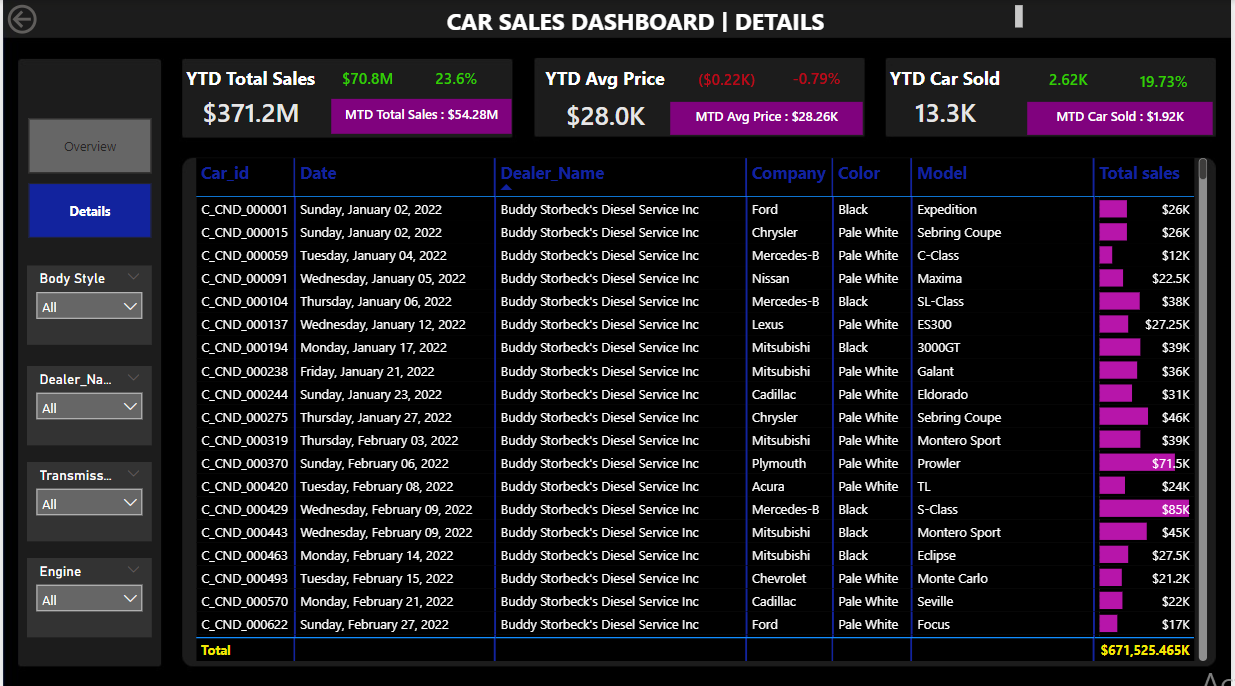

This screenshot's page, from the dashboard's own definition file:
{"tool":"powerbi","page":{"name":"Details","canvas":[1280,720],"ordinal":1},"visuals":[{"type":"card","title":"YTD Total Sales","fields":{"Values":["car_data.YTD Total Sales"]},"box":[172,68,172,71.8],"z":0},{"type":"card","fields":{"Values":["car_data.Sales diff"]},"box":[334.5,60.5,90.7,43.5],"z":1000},{"type":"card","fields":{"Values":["car_data.YoY Sales Growth"]},"box":[427.1,60.5,90.7,43.5],"z":2000},{"type":"card","fields":{"Values":["car_data.MTD KPI"]},"box":[342.3,103.2,187.6,35.9],"z":3000},{"type":"card","title":"YTD Avg Price","fields":{"Values":["car_data.YTD Avg Price"]},"box":[551.8,68,151.2,79.4],"z":4000},{"type":"card","fields":{"Values":["car_data.Avg Price Diff"]},"box":[708.7,62.4,90.7,43.5],"z":5000},{"type":"card","fields":{"Values":["car_data.YoY Avg Price Growth"]},"box":[801.3,60.5,90.7,43.5],"z":6000},{"type":"card","fields":{"Values":["car_data.MTD Avg Price KPI"]},"box":[695.4,105.8,200.3,34],"z":7000},{"type":"card","title":"YTD Car Sold","fields":{"Values":["car_data.YTD Car Sold"]},"box":[895.8,68,172,71.8],"z":8000},{"type":"card","fields":{"Values":["car_data.Car Sold Diff"]},"box":[1063.9,62.4,90.7,43.5],"z":9000},{"type":"card","fields":{"Values":["car_data.YoY Car Sold Growth"]},"box":[1158.4,64.3,102,43.5],"z":10000},{"type":"card","fields":{"Values":["car_data.MTD Car sold KPI"]},"box":[1067.7,105.8,192.8,34],"z":11000},{"type":"textbox","box":[257.9,0,809.6,37.5],"z":12000},{"type":"slicer","fields":{"Values":["car_data.Body Style"]},"box":[25,276.6,129.7,82.8],"z":13000},{"type":"slicer","fields":{"Values":["car_data.Dealer_Name"]},"box":[25,381.4,129.7,82.8],"z":14000},{"type":"slicer","fields":{"Values":["car_data.Transmission"]},"box":[25,481.4,129.7,82.8],"z":15000},{"type":"slicer","fields":{"Values":["car_data.Engine"]},"box":[25,581.4,129.7,82.8],"z":16000},{"type":"tableEx","fields":{"Values":["car_data.Car_id","car_data.Date","car_data.Dealer_Name","car_data.Company","car_data.Color","car_data.Model","car_data.Total sales"]},"box":[195.4,159.4,1064.4,534.5],"z":17000},{"type":"actionButton","box":[0,0,100,40],"z":18000},{"type":"pageNavigator","box":[26.6,123.5,128.2,125],"z":19001}]}

Visuals, with their boxes on the page's 1280x720 design canvas (x1, y1, x2, y2). These are canvas units, not pixel positions in the 1235x686 screenshot, which may show the page scaled, cropped or inside an application window:
"YTD Total Sales" card: [x1=172, y1=68, x2=344, y2=140]
card - car_data.Sales diff: [x1=334, y1=60, x2=425, y2=104]
card - car_data.YoY Sales Growth: [x1=427, y1=60, x2=518, y2=104]
card - car_data.MTD KPI: [x1=342, y1=103, x2=530, y2=139]
"YTD Avg Price" card: [x1=552, y1=68, x2=703, y2=147]
card - car_data.Avg Price Diff: [x1=709, y1=62, x2=799, y2=106]
card - car_data.YoY Avg Price Growth: [x1=801, y1=60, x2=892, y2=104]
card - car_data.MTD Avg Price KPI: [x1=695, y1=106, x2=896, y2=140]
"YTD Car Sold" card: [x1=896, y1=68, x2=1068, y2=140]
card - car_data.Car Sold Diff: [x1=1064, y1=62, x2=1155, y2=106]
card - car_data.YoY Car Sold Growth: [x1=1158, y1=64, x2=1260, y2=108]
card - car_data.MTD Car sold KPI: [x1=1068, y1=106, x2=1260, y2=140]
textbox: [x1=258, y1=0, x2=1068, y2=38]
slicer - car_data.Body Style: [x1=25, y1=277, x2=155, y2=359]
slicer - car_data.Dealer_Name: [x1=25, y1=381, x2=155, y2=464]
slicer - car_data.Transmission: [x1=25, y1=481, x2=155, y2=564]
slicer - car_data.Engine: [x1=25, y1=581, x2=155, y2=664]
tableEx - car_data.Car_id x car_data.Date: [x1=195, y1=159, x2=1260, y2=694]
actionButton: [x1=0, y1=0, x2=100, y2=40]
pageNavigator: [x1=27, y1=124, x2=155, y2=248]
